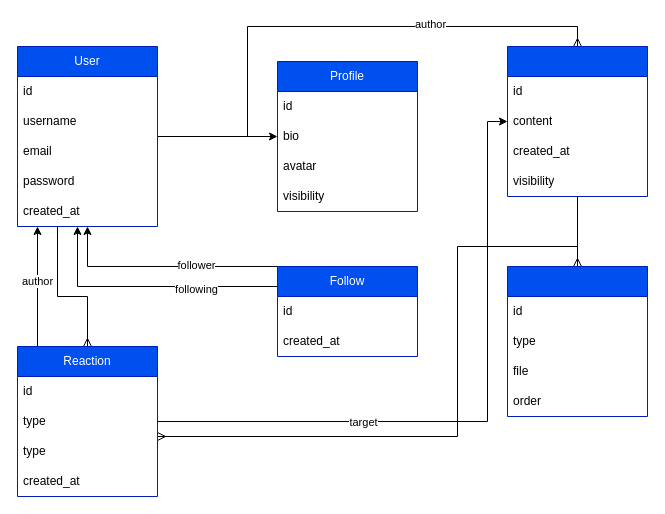
This 665x514 diagram has some shape labels left out. The shapes that lost their labels are listed below. From the top down, each one's box as (x1, y1, x2, y2) in pixels, then its label:
(506, 46, 648, 196): Post
(506, 266, 648, 416): PostMedia
